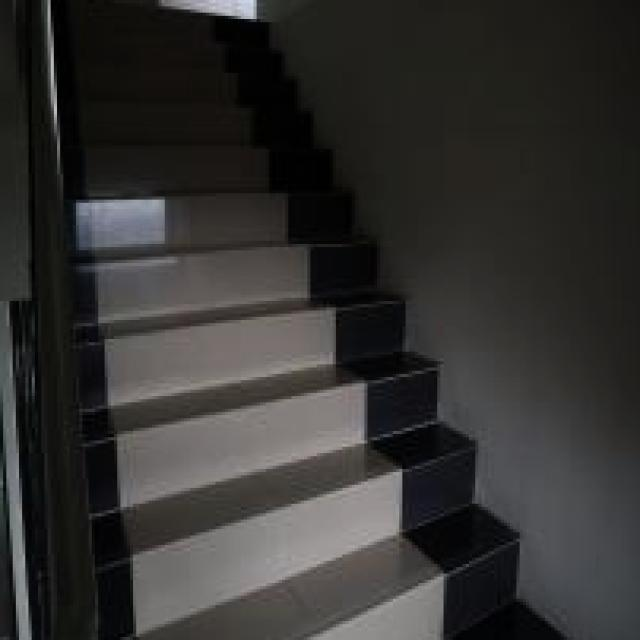upstair: (80, 93, 407, 590)
